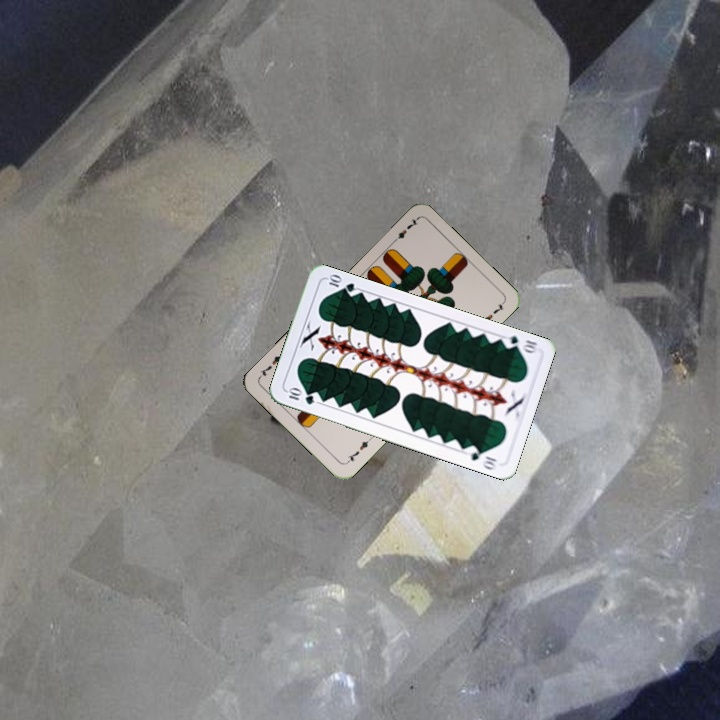E7: (342, 433, 374, 466), (388, 215, 421, 247)
G10: (498, 331, 540, 356), (283, 384, 317, 407)
